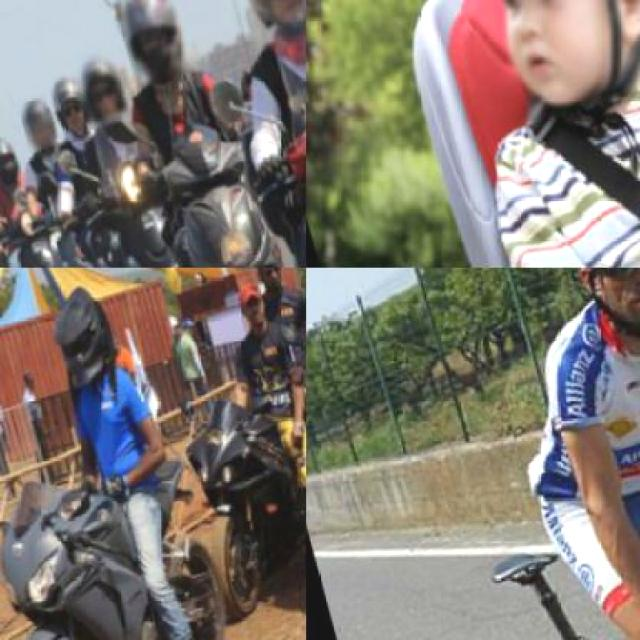With Helmet: (416, 0, 638, 142), (544, 268, 638, 368), (39, 290, 122, 393), (108, 0, 194, 98), (218, 0, 304, 65), (70, 53, 132, 138), (43, 76, 89, 149), (14, 100, 57, 160), (0, 136, 20, 192)
Without Helmet: (232, 288, 268, 343)
